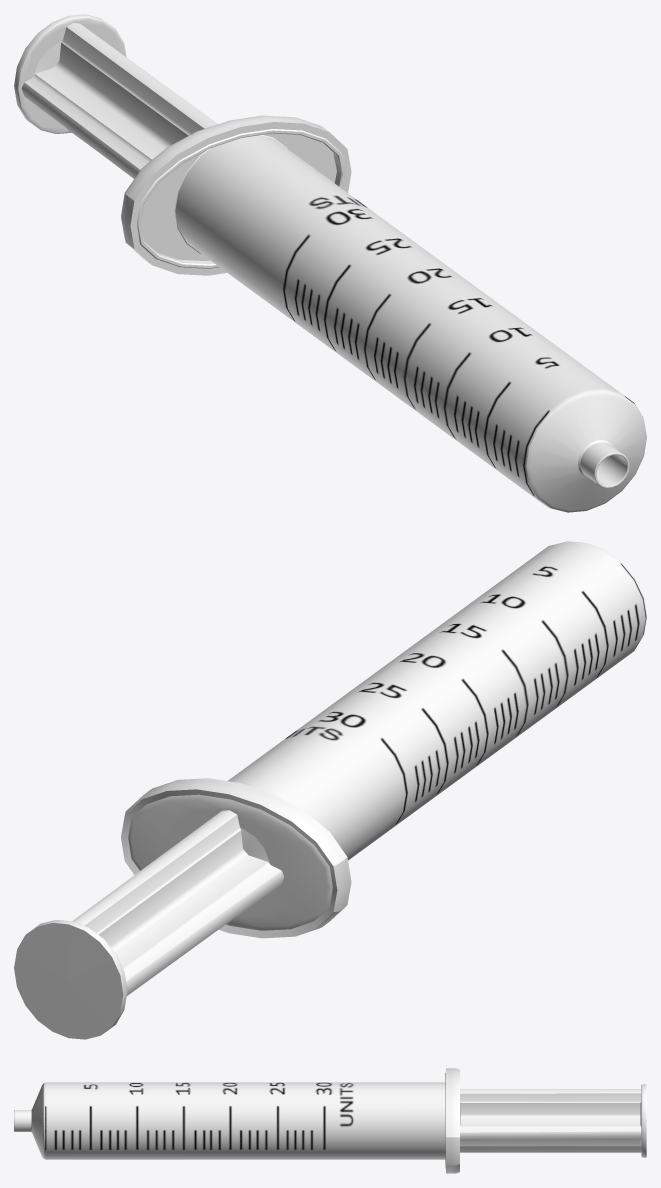
The model's file is syringe30ml.fbx.
3 renders of one model, top to bottom at view 1: azimuth 30°, elevation 25°; view 2: azimuth 150°, elevation 25°; view 3: azimuth 270°, elevation 25°, orthographic. The views are drawn at different scales.
Parts seen in each view (by area): view 1: syringe_3oml; view 2: syringe_3oml; view 3: syringe_3oml.
Boxes of the visible parts, x1=… form: syringe_3oml: x1=14, y1=14, x2=646, y2=512; syringe_3oml: x1=14, y1=541, x2=646, y2=1039; syringe_3oml: x1=14, y1=1068, x2=646, y2=1173.
Bounding box in the file's own units: 3.21 × 2 × 13.67.
